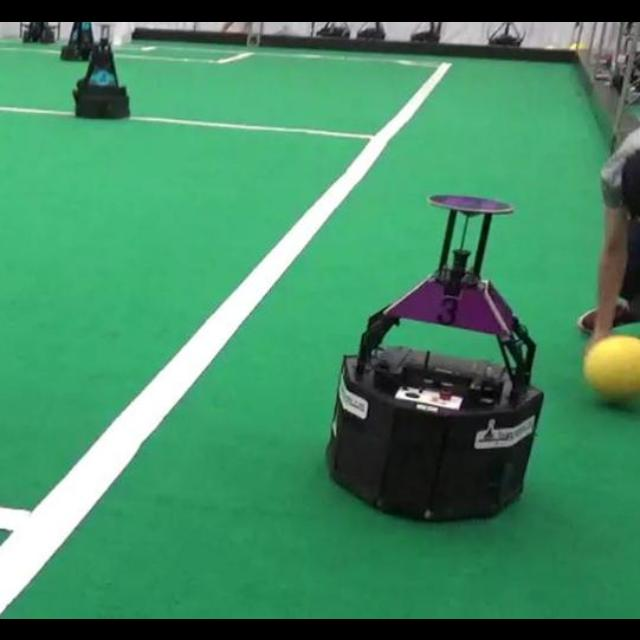ball: (583, 334, 639, 401)
robot: (328, 194, 542, 518), (74, 24, 130, 117), (61, 21, 94, 59), (21, 21, 54, 41)
